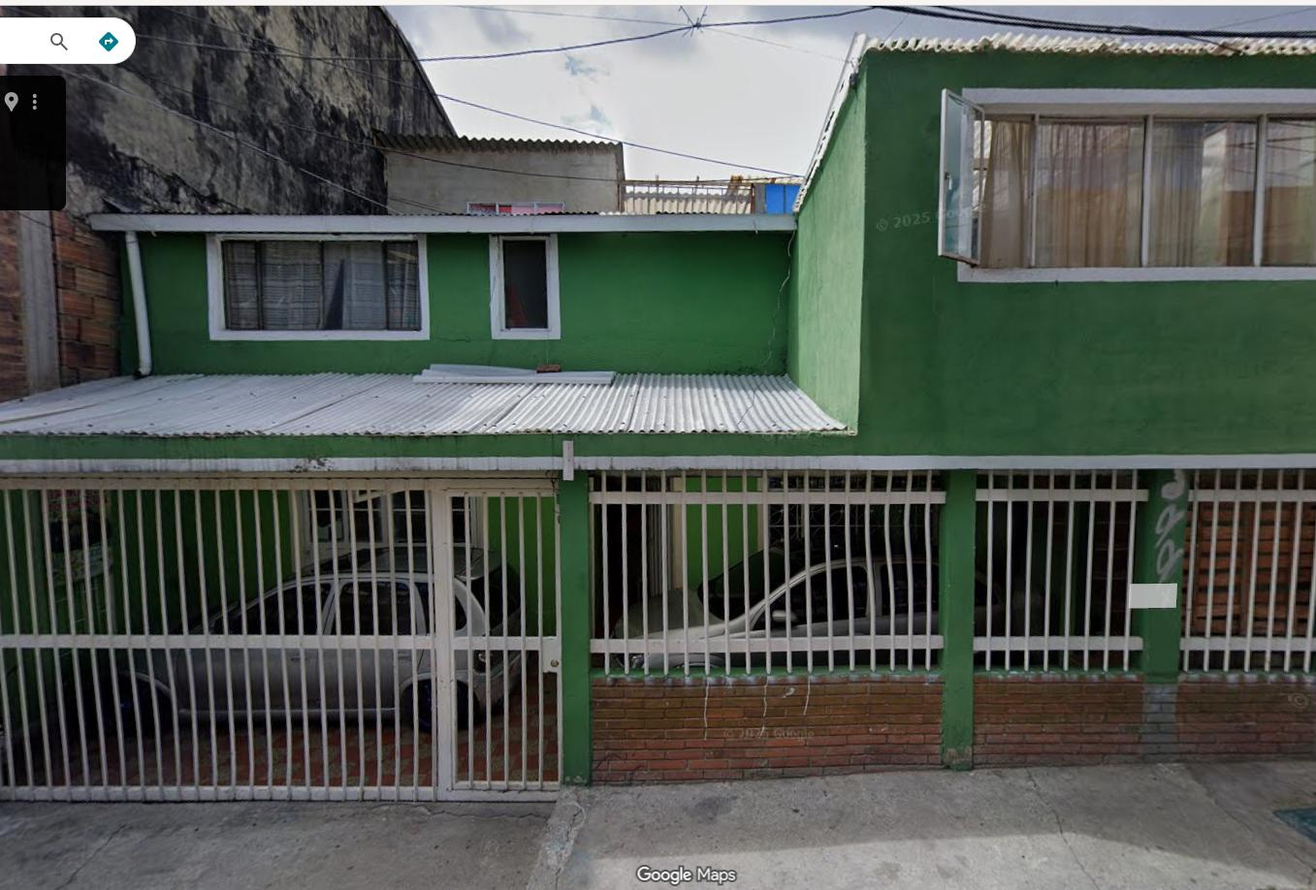casa: (0, 39, 1315, 799)
